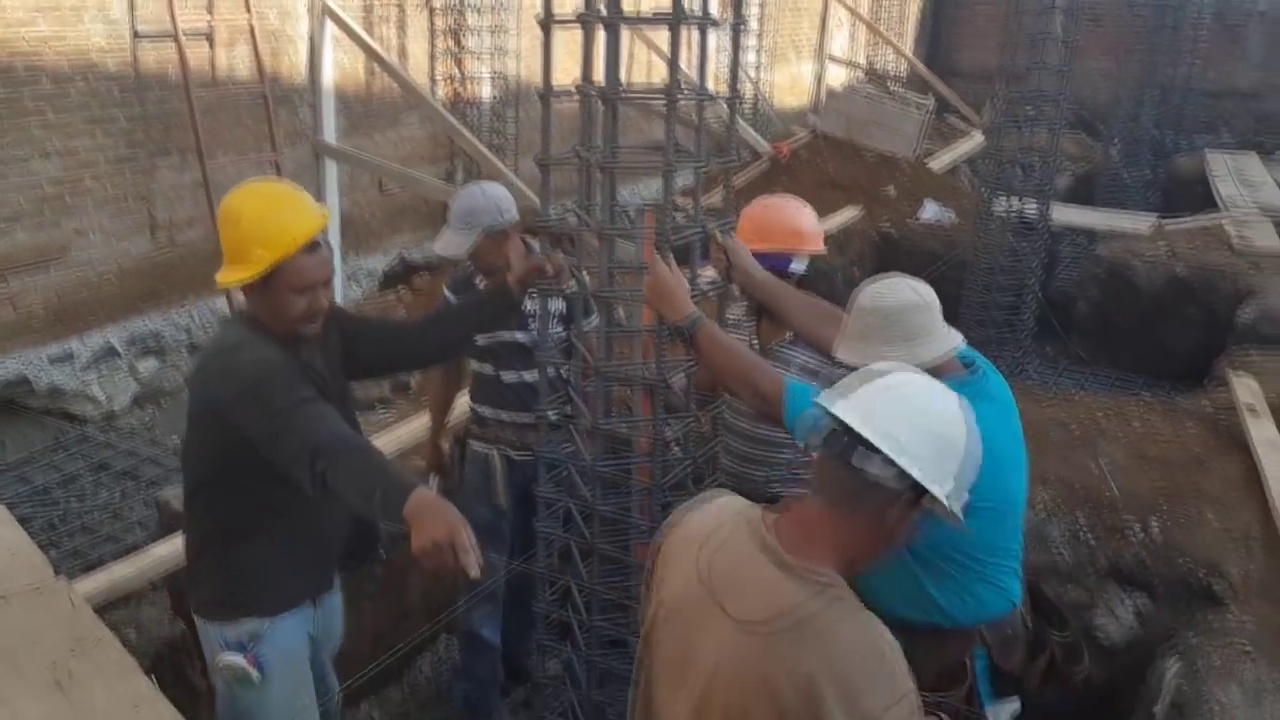helmet: (812, 384, 981, 552), (209, 172, 326, 284), (736, 195, 831, 261)
helmet-off: (842, 275, 966, 373), (438, 178, 525, 293)
helmet-on: (760, 378, 979, 580), (204, 169, 335, 346), (720, 198, 836, 328)
person: (650, 227, 1026, 714), (186, 173, 483, 720), (630, 381, 1016, 717), (428, 172, 594, 719), (696, 192, 843, 508)
